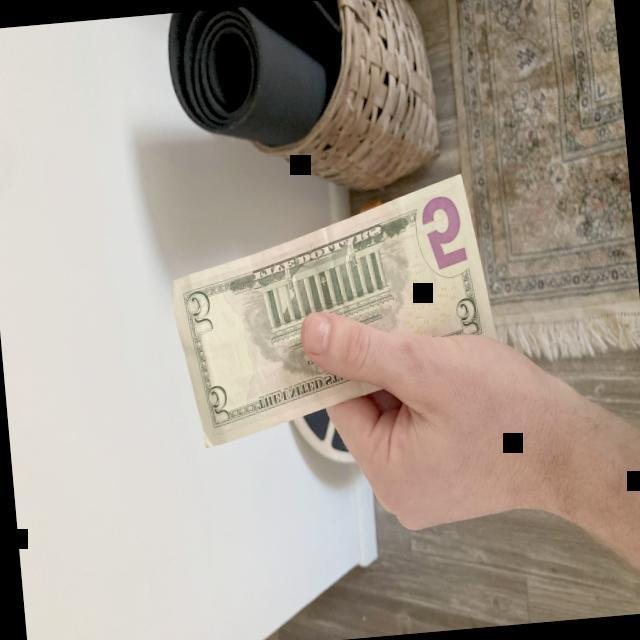five: (162, 168, 506, 452)
